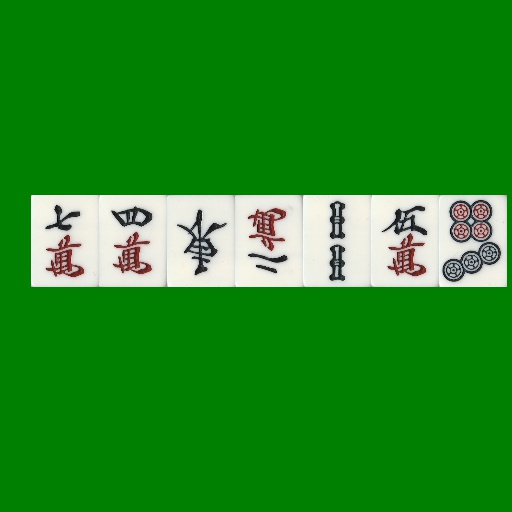2m: (235, 195, 303, 287)
2s: (303, 195, 371, 287)
4m: (99, 195, 167, 287)
5m: (371, 195, 439, 287)
7m: (31, 195, 99, 287)
7p: (439, 195, 507, 287)
east: (167, 195, 235, 287)
